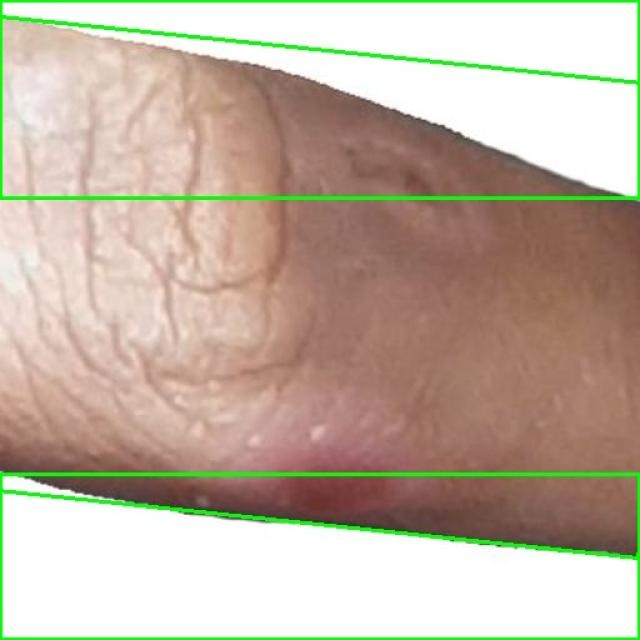Atopic Dermatitis: (0, 16, 640, 558), (0, 0, 639, 198), (0, 474, 639, 639)
